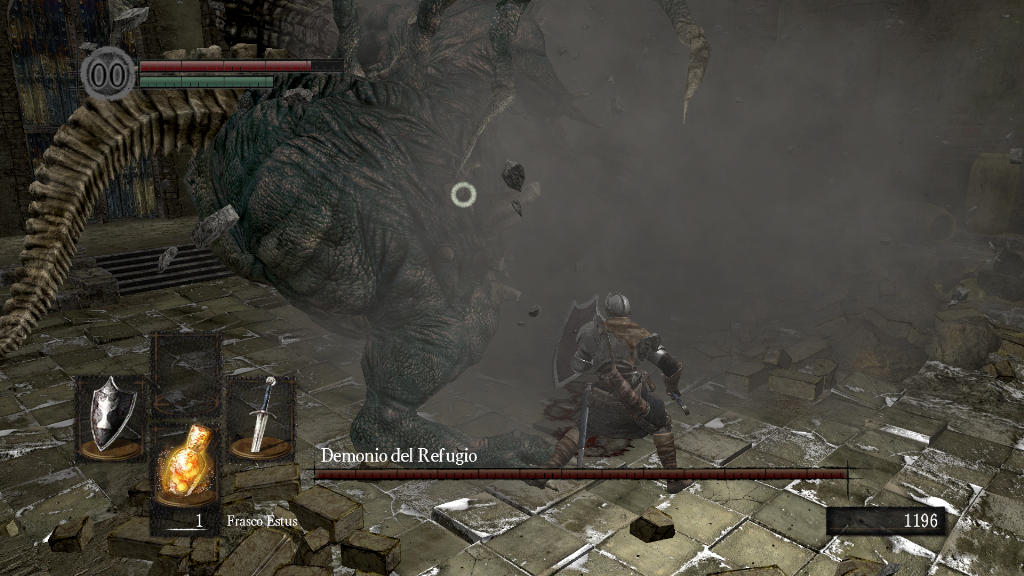asylumDemon: (2, 3, 588, 464)
bossHP: (314, 469, 847, 479)
health: (138, 58, 343, 71)
humanity: (80, 45, 136, 102)
player: (546, 293, 697, 495)
souls: (825, 506, 945, 536)
stamina: (138, 74, 274, 88)
